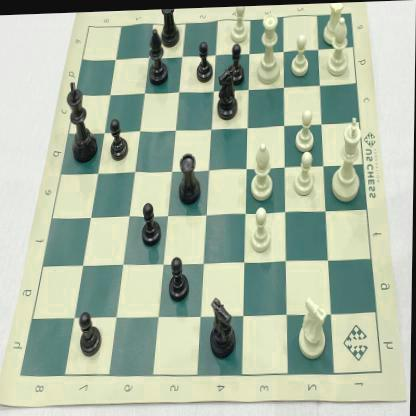black-bishop: (147, 22, 170, 87)
black-king: (63, 74, 100, 163)
black-knight: (208, 286, 242, 361), (212, 62, 245, 122)
black-pawn: (78, 304, 105, 358), (166, 250, 194, 302), (140, 195, 164, 249), (226, 38, 250, 86), (193, 36, 217, 83), (108, 112, 130, 161)
black-rook: (175, 146, 204, 206), (158, 7, 185, 49)
white-bishop: (248, 136, 280, 204), (324, 11, 353, 78)
white-king: (328, 110, 367, 208)
white-knight: (294, 287, 334, 366)
white-pawn: (290, 146, 320, 200), (288, 26, 314, 80), (292, 104, 318, 158), (249, 202, 274, 257), (228, 5, 250, 48)
white-queen: (253, 6, 285, 88)
white-rook: (320, 2, 348, 48)
